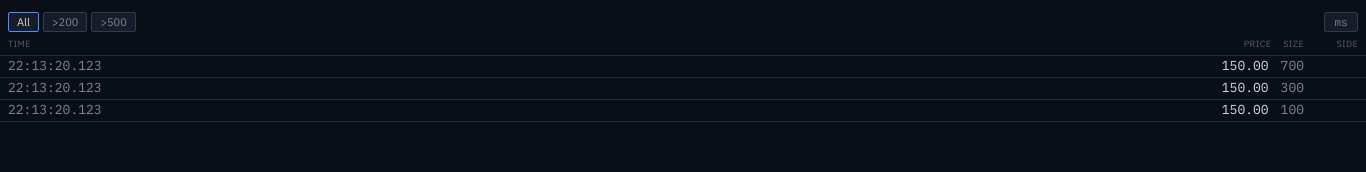
TradeTape › filters by block size, strict-greater, preserving order
Expected: the number of elements with test id "tape-row" is 3, [0, 56, 1365, 78]; [0, 78, 1365, 100]; [0, 100, 1365, 122]
Click the button with test id "tape-filter-gt200" at (65, 22), box [43, 12, 87, 32]
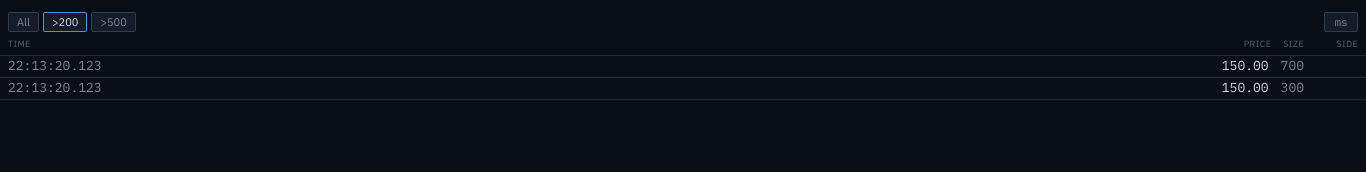
Click the button with test id "tape-filter-gt500" at (114, 22), box [91, 12, 136, 32]
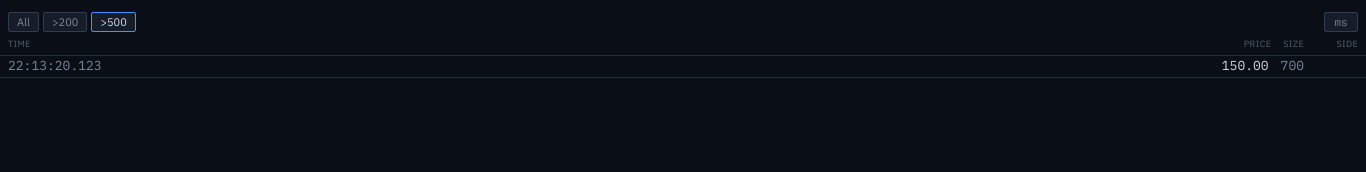
Click the button with test id "tape-filter-all" at (24, 22), box [8, 12, 39, 32]
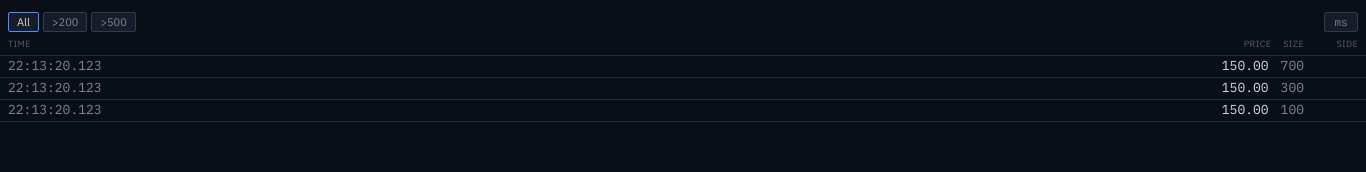
Expected: the number of elements with test id "tape-row" is 3, [0, 56, 1365, 78]; [0, 78, 1365, 100]; [0, 100, 1365, 122]
